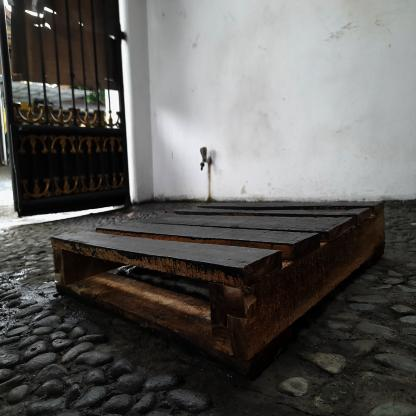Wooden-Pallet: (47, 198, 386, 385)
